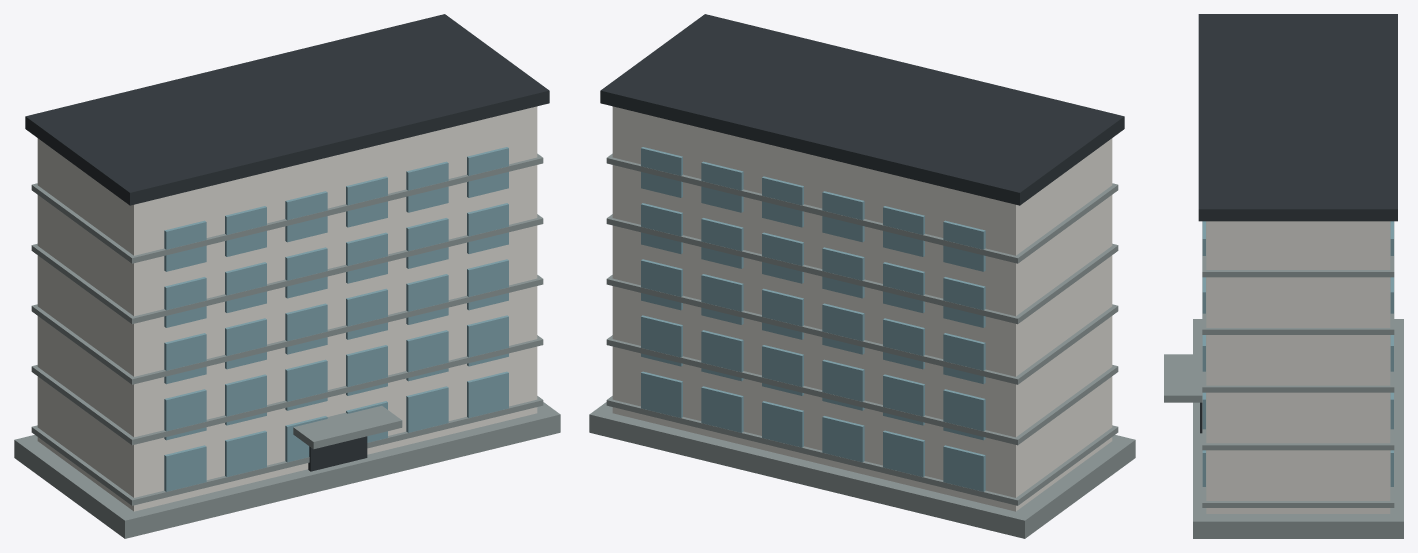
The picture shows the model from 3 angles, left to right: view 1: azimuth 30°, elevation 25°; view 2: azimuth 150°, elevation 25°; view 3: azimuth 270°, elevation 25°; orthographic projection. The views are drawn at different scales.
Parts seen in each view (by area): view 1: 主体建筑, 屋顶, 基座, 楼层线.003, 楼层线.004, 楼层线.002, 楼层线.001, 楼层线, 雨棚, 第 1 层窗 1, 第 1 层窗 5, 第 4 层窗 3 (+27 smaller); view 2: 主体建筑, 屋顶, 基座, 楼层线.003, 楼层线.004, 楼层线, 楼层线.002, 楼层线.001, 第 1 层窗 1.001, 第 1 层窗 3.001, 第 1 层窗 5.001, 第 4 层窗 3.001 (+26 smaller); view 3: 主体建筑, 屋顶, 基座, 雨棚, 楼层线.002, 楼层线.001, 楼层线.004, 楼层线.003, 楼层线.
Boxes of the visible parts, <box> form: 主体建筑: <box>37,106,537,511</box>; 屋顶: <box>25,14,549,205</box>; 基座: <box>14,402,560,538</box>; 楼层线.003: <box>31,214,543,324</box>; 楼层线.004: <box>31,153,543,263</box>; 楼层线.002: <box>31,275,543,384</box>; 楼层线.001: <box>31,335,543,445</box>; 楼层线: <box>31,396,543,505</box>; 雨棚: <box>293,405,402,449</box>; 第 1 层窗 1: <box>164,445,206,491</box>; 第 1 层窗 5: <box>406,386,448,432</box>; 第 4 层窗 3: <box>285,247,327,298</box>; 主体建筑: <box>612,106,1112,511</box>; 屋顶: <box>600,14,1124,205</box>; 基座: <box>589,402,1135,538</box>; 楼层线.003: <box>606,214,1118,324</box>; 楼层线.004: <box>606,153,1118,263</box>; 楼层线: <box>606,396,1118,505</box>; 楼层线.002: <box>606,275,1118,384</box>; 楼层线.001: <box>606,335,1118,445</box>; 第 1 层窗 1.001: <box>943,445,985,491</box>; 第 1 层窗 3.001: <box>822,416,864,462</box>; 第 1 层窗 5.001: <box>701,386,743,432</box>; 第 4 层窗 3.001: <box>822,247,864,298</box>; 主体建筑: <box>1206,221,1390,513</box>; 屋顶: <box>1198,14,1397,221</box>; 基座: <box>1193,319,1403,538</box>; 雨棚: <box>1164,354,1202,402</box>; 楼层线.002: <box>1202,335,1394,392</box>; 楼层线.001: <box>1202,393,1394,450</box>; 楼层线.004: <box>1202,221,1394,277</box>; 楼层线.003: <box>1202,277,1394,334</box>; 楼层线: <box>1202,450,1394,507</box>.
Bounding box in the file's own units: 24 × 18 × 12.
